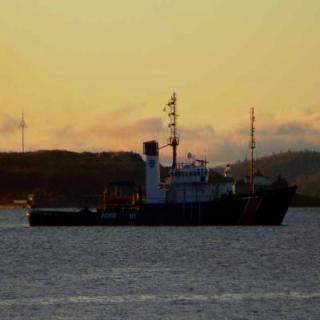Tug Boat: (40, 86, 298, 228)
